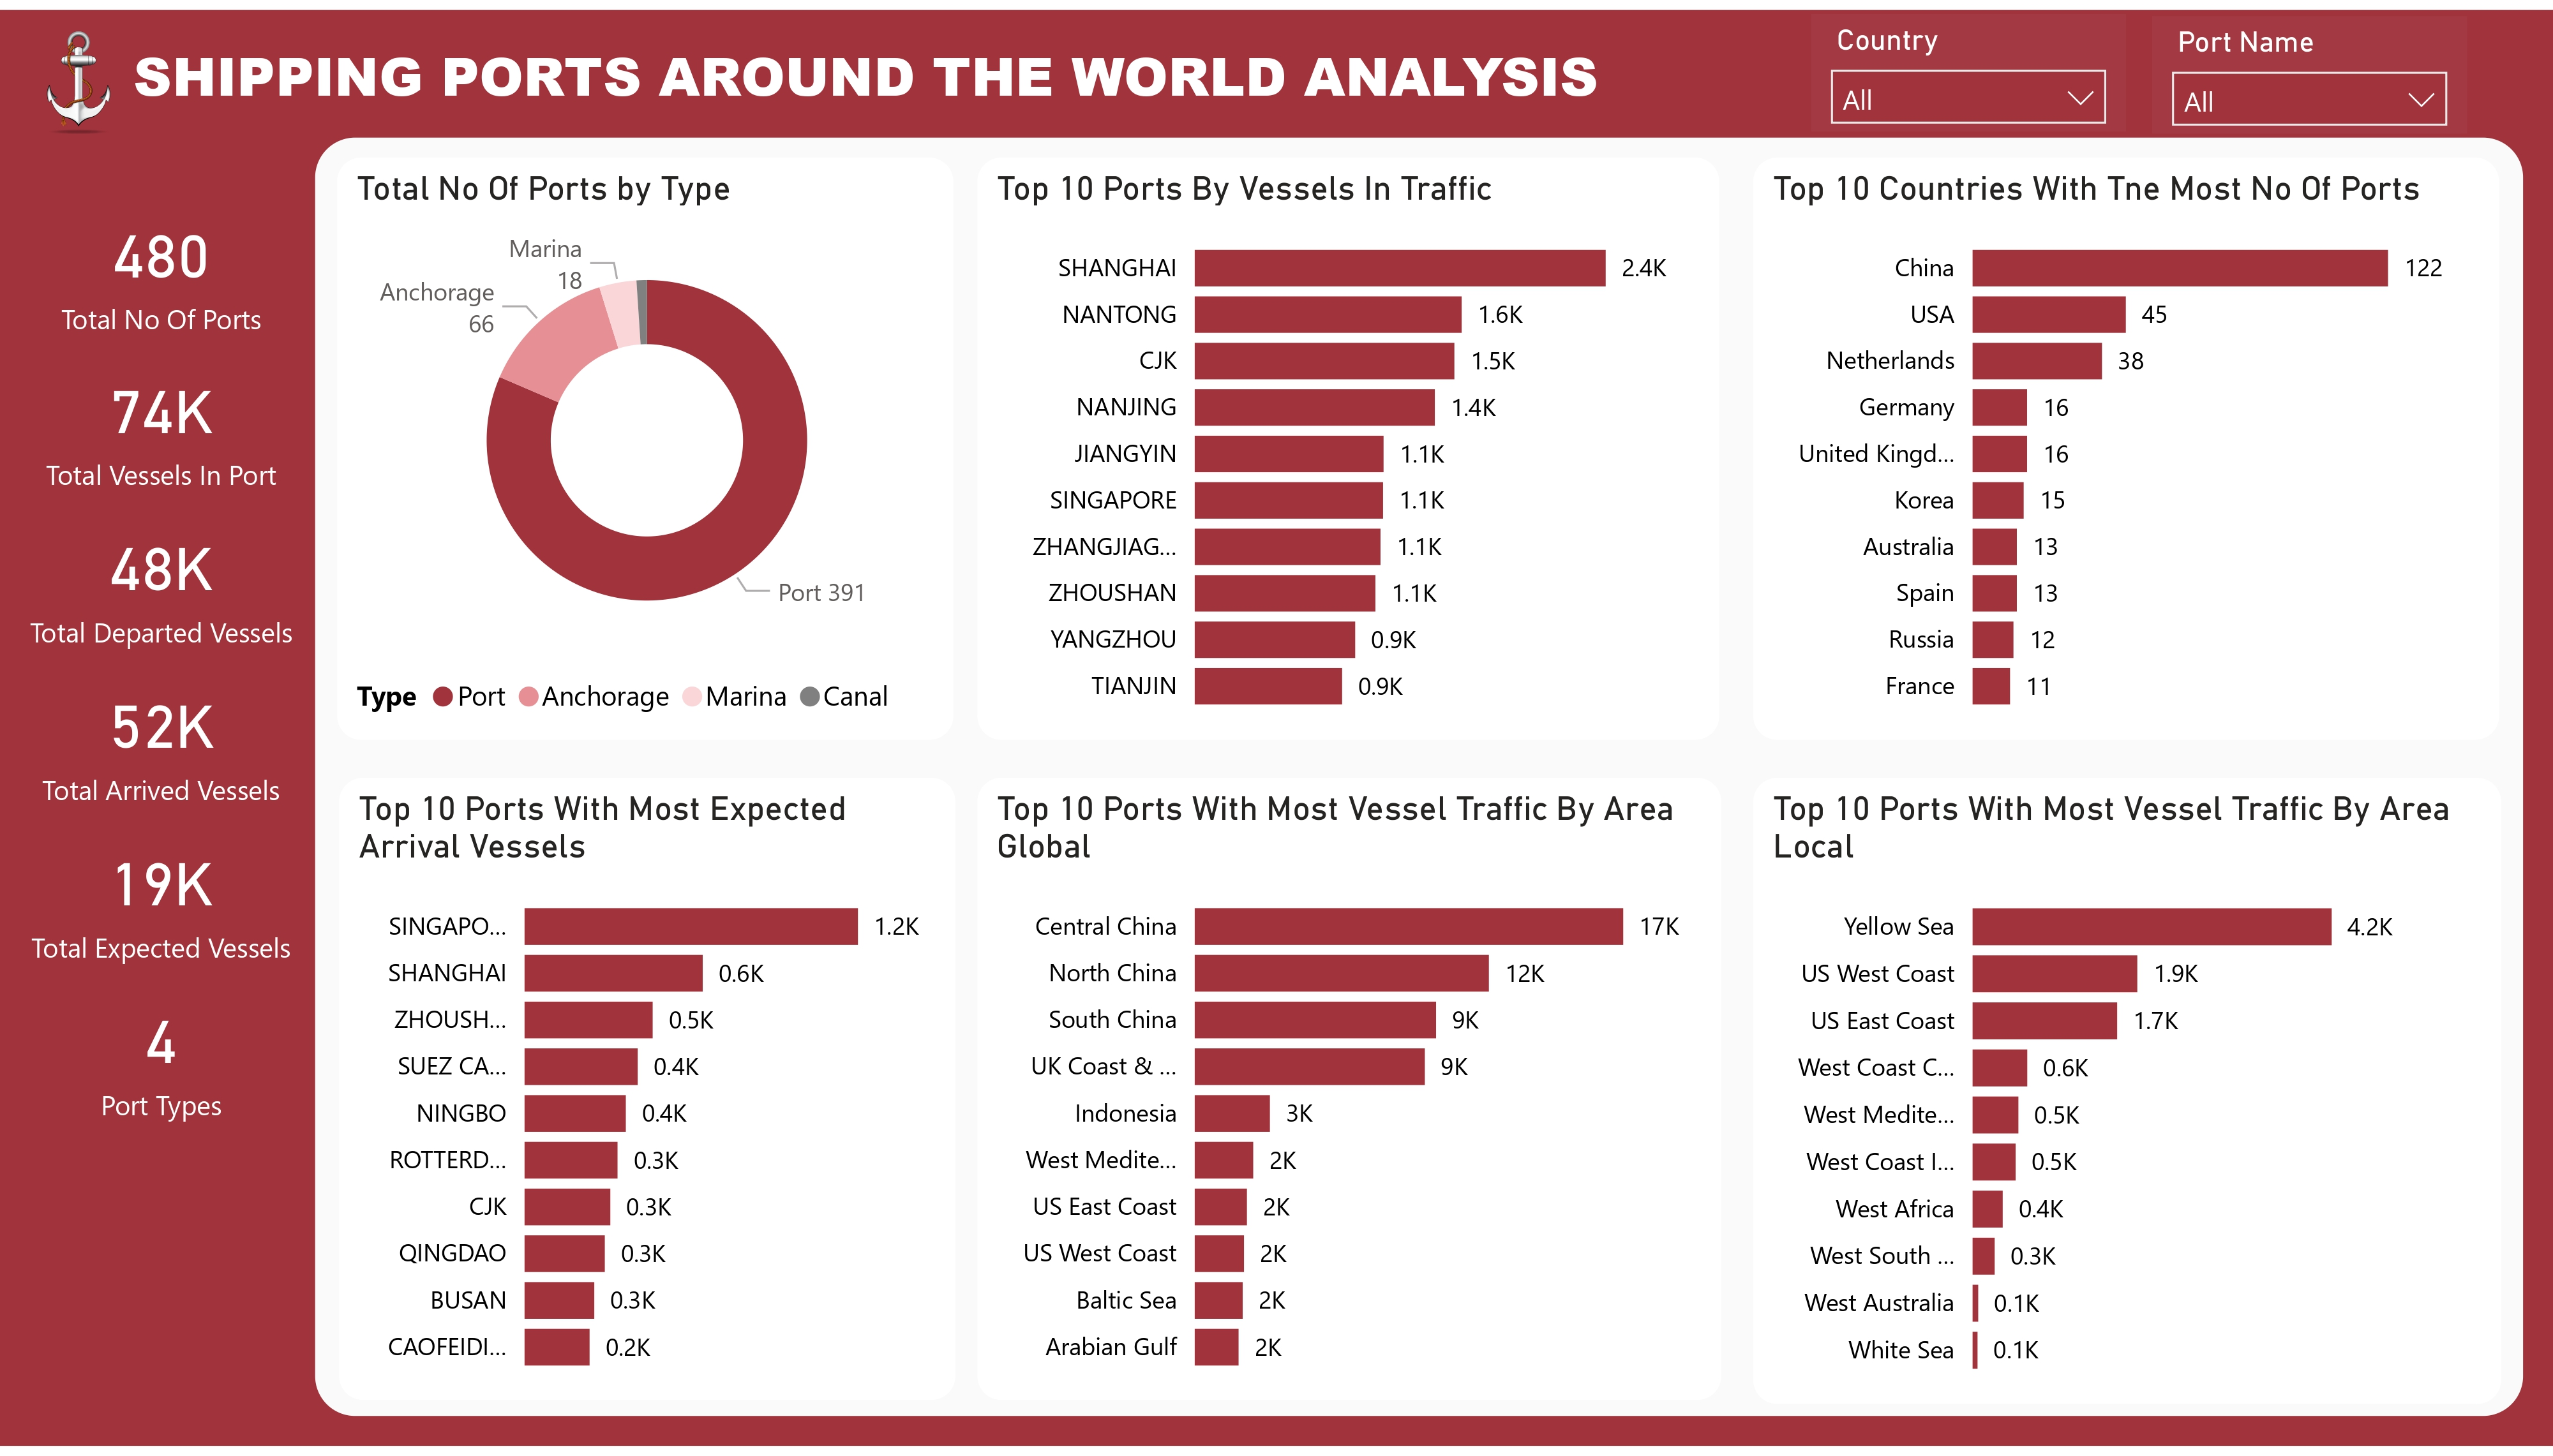

The page's visual inventory and layout, read from the dashboard file:
{"tool":"powerbi","page":{"name":"REPORT 1","canvas":[1280,720],"ordinal":0},"visuals":[{"type":"shape","title":"Top 10 Ports By Vessels In Portssels in Port by Port Name","box":[157.7,63.7,1107.2,640.8],"z":0},{"type":"textbox","box":[62.4,8.5,805,60.9],"z":1000},{"type":"card","fields":{"Values":["DAX.Total No Of Ports"]},"box":[1.7,90.6,157.7,78.8],"z":2000},{"type":"card","fields":{"Values":["DAX.Formatted Total Vessels In Port"]},"box":[1.7,169.4,157.7,78.8],"z":3000},{"type":"card","fields":{"Values":["DAX.Formatted Total Departed Vesselsr"]},"box":[1.7,248.3,157.7,78.8],"z":4000},{"type":"card","fields":{"Values":["DAX.Formatted Total Arrived Vessels"]},"box":[1.7,327.1,157.7,78.8],"z":5000},{"type":"card","fields":{"Values":["DAX.Formatted Total Expected Vessels"]},"box":[1.7,406,157.7,78.8],"z":6000},{"type":"card","fields":{"Values":["DAX.Port Types"]},"box":[1.7,484.8,157.7,78.8],"z":7000},{"type":"donutChart","fields":{"Category":["Port_Data.Type"],"Y":["DAX.Total No Of Ports"]},"box":[169.4,73.8,308.7,291.9],"z":8000},{"type":"barChart","title":"Top 10 Ports By Vessels In Traffic","fields":{"Y":["Sum(Port_Data.Vessels in Port)"],"Category":["Port_Data.Port Name"]},"box":[489.9,73.8,372.4,291.9],"z":9000},{"type":"barChart","title":"Top 10  Countries With Tne Most No Of Ports","fields":{"Category":["Port_Data.Country"],"Y":["DAX.Total No Of Ports"]},"box":[879.1,73.8,374.1,291.9],"z":10000},{"type":"barChart","title":"Top 10 Ports With Most Vessel Traffic By Area Global","fields":{"Category":["Port_Data.Area Global"],"Y":["Sum(Port_Data.Vessels in Port)"]},"box":[490.5,384.7,372.9,312.4],"z":11000},{"type":"slicer","fields":{"Values":["Port_Data.Country"]},"box":[907.6,1.7,157.7,58.7],"z":12000},{"type":"slicer","fields":{"Values":["Port_Data.Port Name"]},"box":[1078.7,3.4,157.7,58.7],"z":13000},{"type":"image","box":[0,0,78.7,69.7],"z":14000},{"type":"barChart","title":"Top 10 Ports With Most Vessel Traffic By Area Local","fields":{"Y":["Sum(Port_Data.Vessels in Port)"],"Category":["Port_Data.Area Local"]},"box":[878.5,384.7,374.6,314.1],"z":15000},{"type":"barChart","title":"Top 10 Ports With Most Expected Arrival Vessels","fields":{"Y":["Sum(Port_Data.Expected Arrivals)"],"Category":["Port_Data.Port Name"]},"box":[169.7,384.7,309.1,312.4],"z":16000}]}

Visuals, with their boxes in screenshot pixels (x1, y1, x2, y2), scaled from the page's 1280x720 canvas onto the 2553x1456 screenshot:
"Top 10 Ports By Vessels In Portssels in Port by Port Name" shape: 315,129,2523,1425
textbox: 124,17,1730,140
card - DAX.Total No Of Ports: 3,183,318,343
card - DAX.Formatted Total Vessels In Port: 3,343,318,502
card - DAX.Formatted Total Departed Vesselsr: 3,502,318,662
card - DAX.Formatted Total Arrived Vessels: 3,662,318,821
card - DAX.Formatted Total Expected Vessels: 3,821,318,981
card - DAX.Port Types: 3,981,318,1140
donutChart - Port_Data.Type x DAX.Total No Of Ports: 338,149,954,739
"Top 10 Ports By Vessels In Traffic" barChart: 977,149,1720,739
"Top 10  Countries With Tne Most No Of Ports" barChart: 1753,149,2499,739
"Top 10 Ports With Most Vessel Traffic By Area Global" barChart: 978,778,1722,1409
slicer - Port_Data.Country: 1810,3,2125,122
slicer - Port_Data.Port Name: 2152,7,2466,126
image: 0,0,157,141
"Top 10 Ports With Most Vessel Traffic By Area Local" barChart: 1752,778,2499,1413
"Top 10 Ports With Most Expected Arrival Vessels" barChart: 338,778,955,1409
